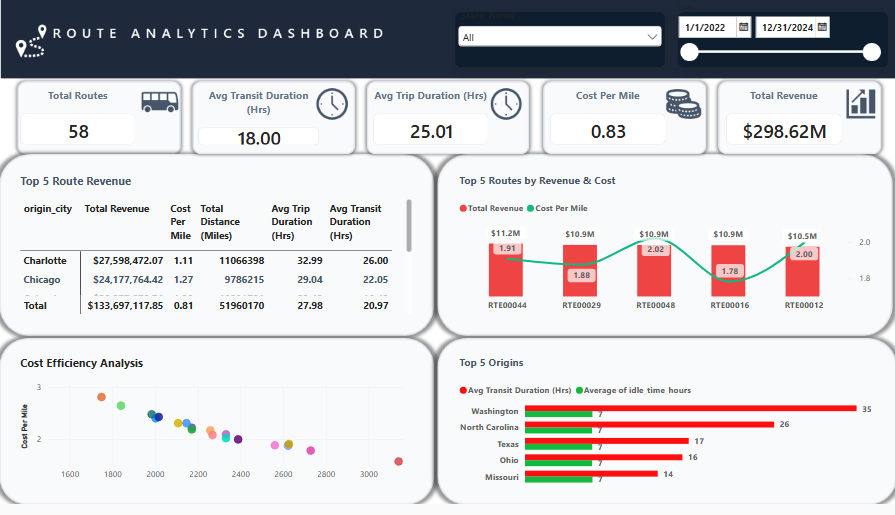

This screenshot's page, from the dashboard's own definition file:
{"tool":"powerbi","page":{"name":"Route Analytics","canvas":[1920,1080],"ordinal":2},"visuals":[{"type":"cardVisual","title":"Total Routes","fields":{"Data":["_Measures.Total Routes"]},"box":[348.3,303.3,165,81.7],"z":0},{"type":"cardVisual","title":"Total Revenue","fields":{"Data":["_Measures.Total Revenue"]},"box":[1356.7,303.3,165,81.7],"z":1000},{"type":"cardVisual","title":"Cost Per Mile","fields":{"Data":["_Measures.Cost Per Mile"]},"box":[1105,303.3,165,81.7],"z":2000},{"type":"cardVisual","title":"Avg Trip Duration (Hrs)","fields":{"Data":["_Measures.Avg Trip Duration (Hrs)"]},"box":[853.3,303.3,165,81.7],"z":3000},{"type":"cardVisual","title":"Avg Transit Duration (Hrs)","fields":{"Data":["_Measures.Avg Transit Duration (Hrs)"]},"box":[603,303,173.1,82.1],"z":4000},{"type":"pivotTable","title":"Top 5 Route Revenue","fields":{"Rows":["routes.origin_city"],"Values":["_Measures.Total Revenue","_Measures.Cost Per Mile","_Measures.Total Distance (Miles)","_Measures.Avg Trip Duration (Hrs)","_Measures.Avg Transit Duration (Hrs)"]},"box":[333.3,410,591.7,231.7],"z":5000},{"type":"lineStackedColumnComboChart","title":"Top 5 Routes by Revenue & Cost","fields":{"Category":["routes.route_id"],"Y":["_Measures.Total Revenue"],"Y2":["_Measures.Cost Per Mile"]},"box":[960,410,621.7,231.7],"z":6000},{"type":"scatterChart","title":"Cost Efficiency Analysis","fields":{"Y":["_Measures.Cost Per Mile"],"X":["routes.typical_distance_miles"],"Series":["routes.route_id"]},"box":[333.3,670,591.7,213.3],"z":7000},{"type":"clusteredBarChart","title":"Top 5 Origins ","fields":{"Category":["routes.Origin State Name"],"Y":["_Measures.Avg Transit Duration (Hrs)","Avg(trips.idle_time_hours)"]},"box":[960,670,621.7,213.3],"z":8000},{"type":"shape","box":[1288.1,194,300,79.1],"z":9000},{"type":"slicer","fields":{"Values":["Calendar.Date"]},"box":[1282.1,182.1,300,91],"z":10000},{"type":"shape","box":[970.1,194,300,79.1],"z":11000},{"type":"slicer","fields":{"Values":["Dim_State.State_Name"]},"box":[970.1,191,300,82.1],"z":12000}]}

Visuals, with their boxes in screenshot pixels (x1, y1, x2, y2), scaled from the page's 1920x1080 canvas onto the 895x515 screenshot:
"Total Routes" cardVisual: 162 145 239 184
"Total Revenue" cardVisual: 632 145 709 184
"Cost Per Mile" cardVisual: 515 145 592 184
"Avg Trip Duration (Hrs)" cardVisual: 398 145 475 184
"Avg Transit Duration (Hrs)" cardVisual: 281 144 362 184
"Top 5 Route Revenue" pivotTable: 155 196 431 306
"Top 5 Routes by Revenue & Cost" lineStackedColumnComboChart: 448 196 737 306
"Cost Efficiency Analysis" scatterChart: 155 319 431 421
"Top 5 Origins " clusteredBarChart: 448 319 737 421
shape: 600 93 740 130
slicer - Calendar.Date: 598 87 737 130
shape: 452 93 592 130
slicer - Dim_State.State_Name: 452 91 592 130
